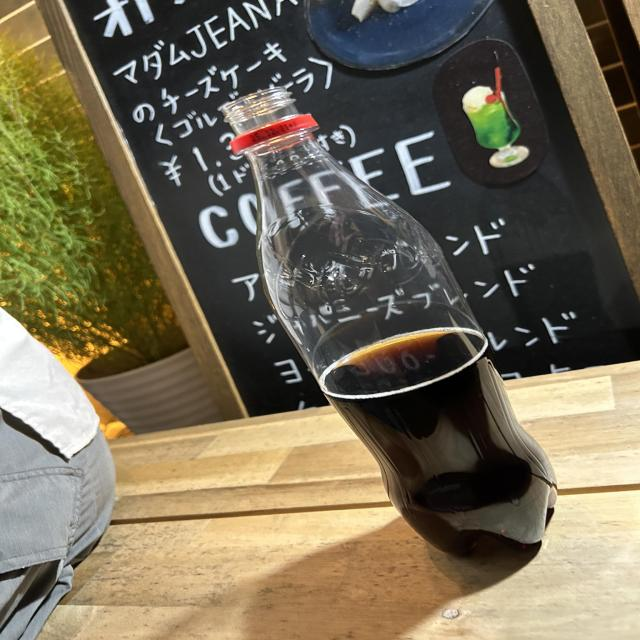medium: (222, 88, 555, 553)
